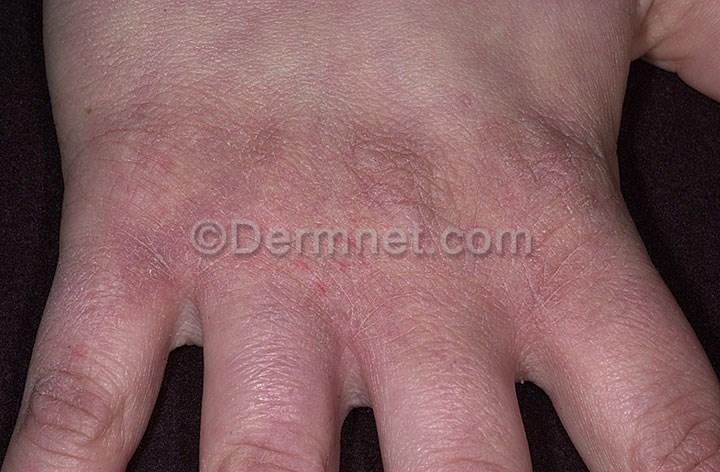Eczema: (437, 98, 550, 227), (92, 79, 225, 186), (327, 97, 436, 222), (214, 103, 333, 204), (94, 208, 192, 307), (525, 217, 622, 317), (284, 215, 383, 303), (541, 123, 615, 203)
